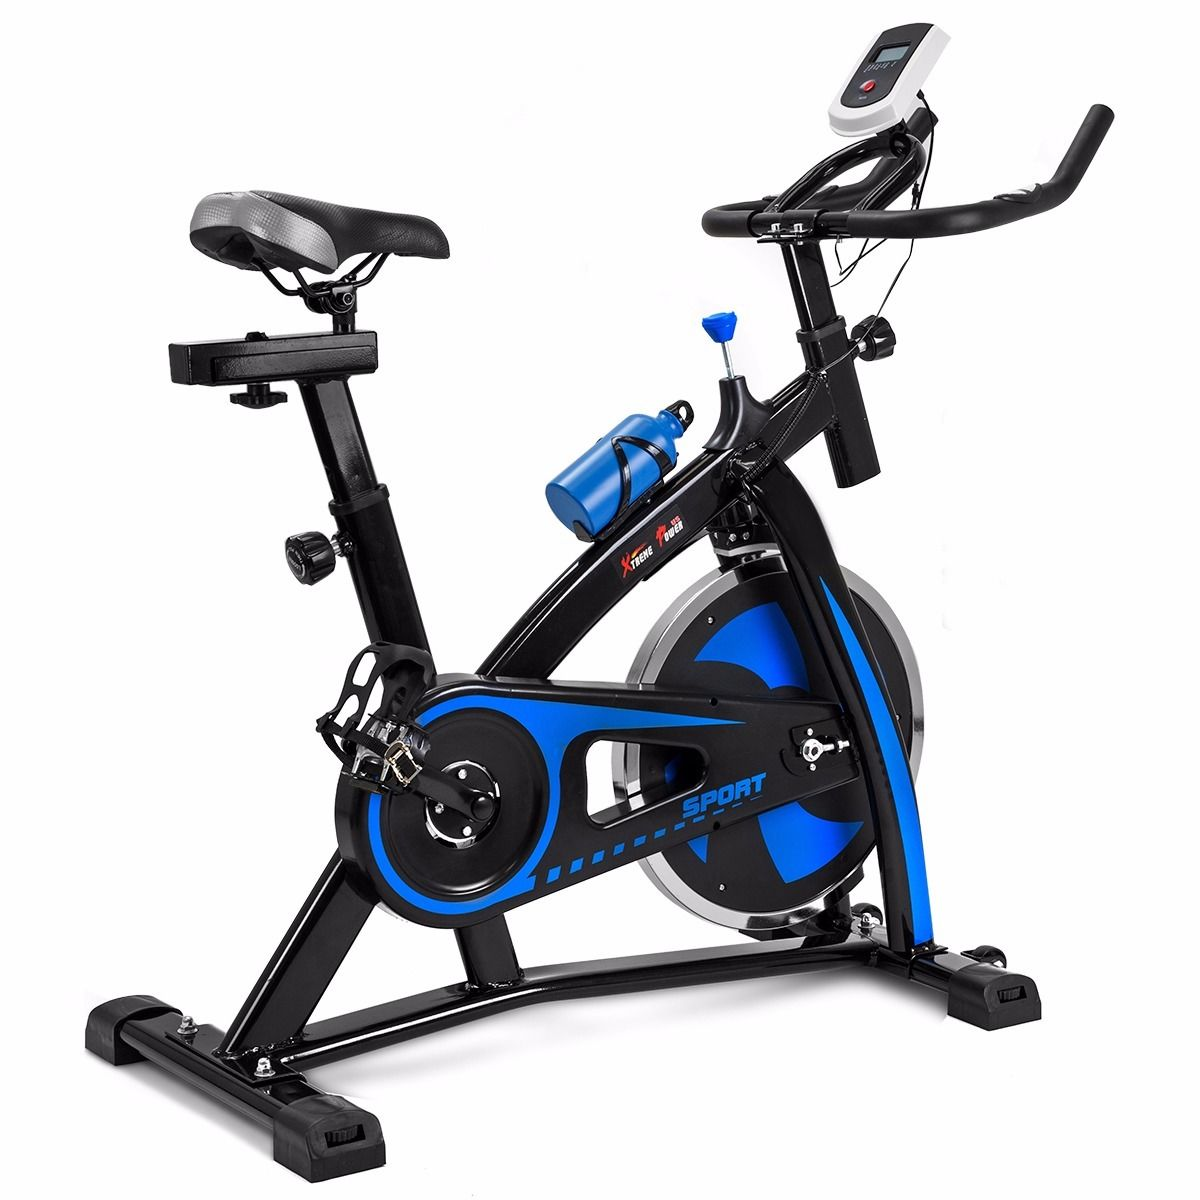gym_bike: (101, 26, 1127, 1177)
